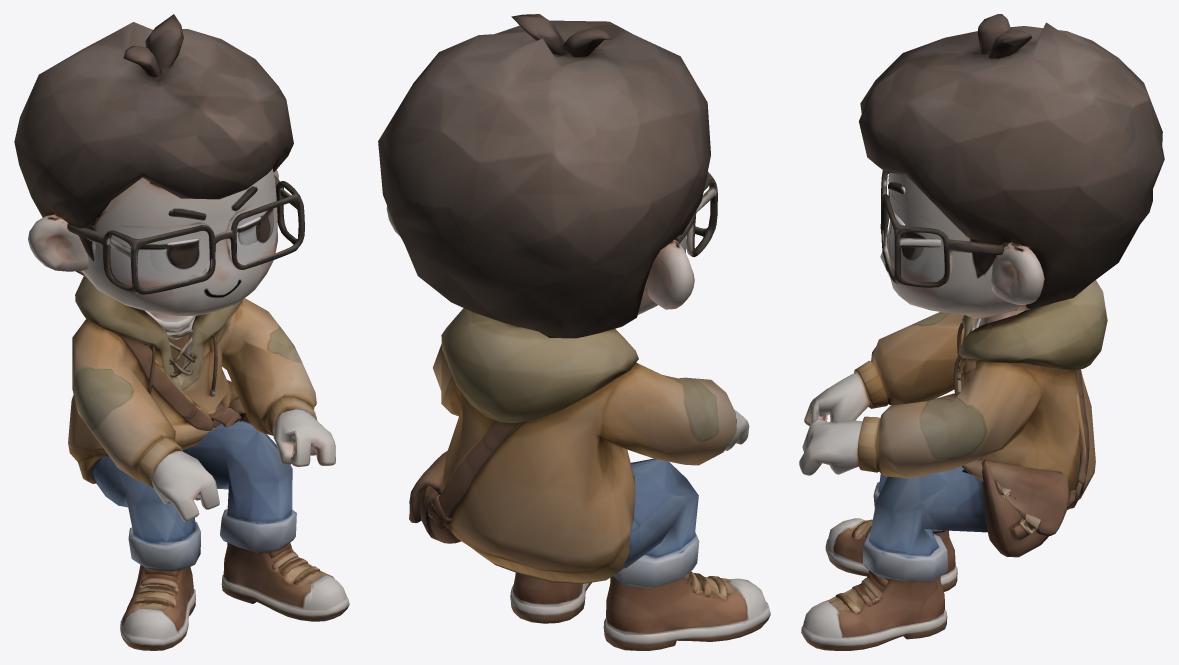
File: sitting-pose.glb
The picture shows the model from 3 angles, left to right: view 1: azimuth 30°, elevation 25°; view 2: azimuth 150°, elevation 25°; view 3: azimuth 270°, elevation 25°; orthographic projection. The views are drawn at different scales.
Visible parts, largest first — view 1: PantiSeatedBody; view 2: PantiSeatedBody; view 3: PantiSeatedBody.
Part boxes in pixels (<box>): PantiSeatedBody: <box>14,14,349,650</box>; PantiSeatedBody: <box>378,14,770,650</box>; PantiSeatedBody: <box>799,14,1164,650</box>.
Bounding box in the file's own units: 0.4037 × 0.837 × 0.4793.
Materials: 1 (1 with a texture image).
